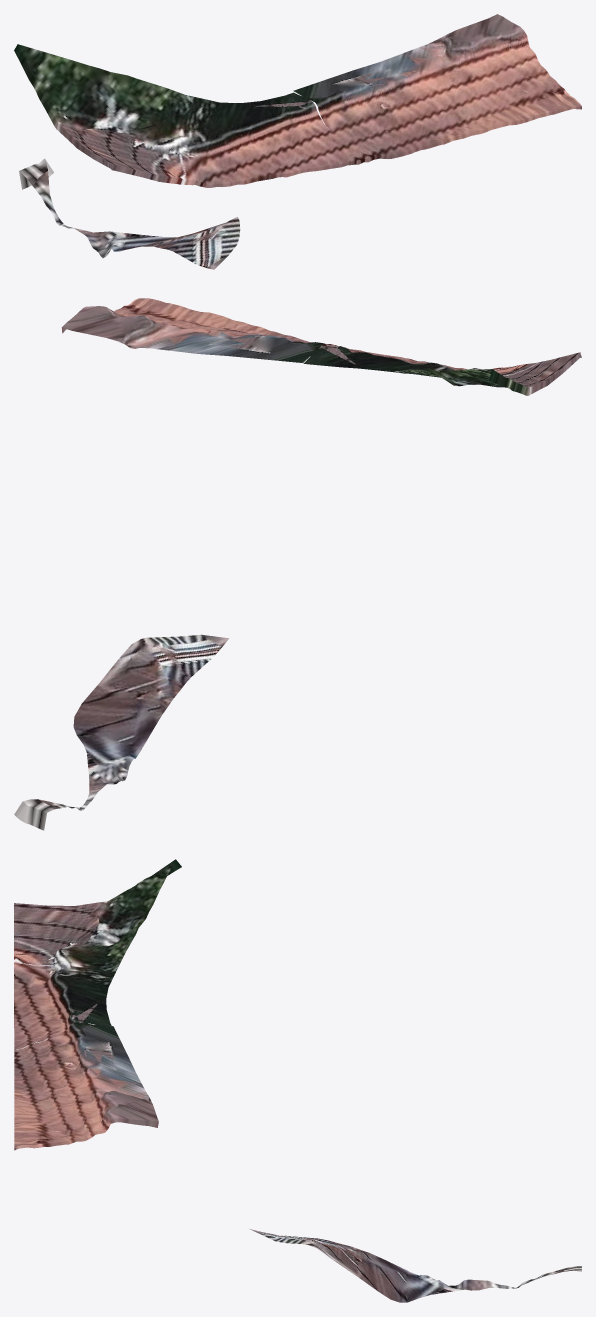
3 renders of one model, top to bottom at view 1: azimuth 30°, elevation 25°; view 2: azimuth 150°, elevation 25°; view 3: azimuth 270°, elevation 25°, orthographic. The views are drawn at different scales.
Parts seen in each view (by area): view 1: node_167; view 2: node_167; view 3: node_167.
Boxes of the visible parts, bbox=[...] form: node_167: bbox=[14, 14, 581, 269]; node_167: bbox=[14, 298, 581, 830]; node_167: bbox=[14, 859, 581, 1302].
Bounding box in the file's own units: 9.01 × 7.04 × 10.99.
1 material, 1 textured.
